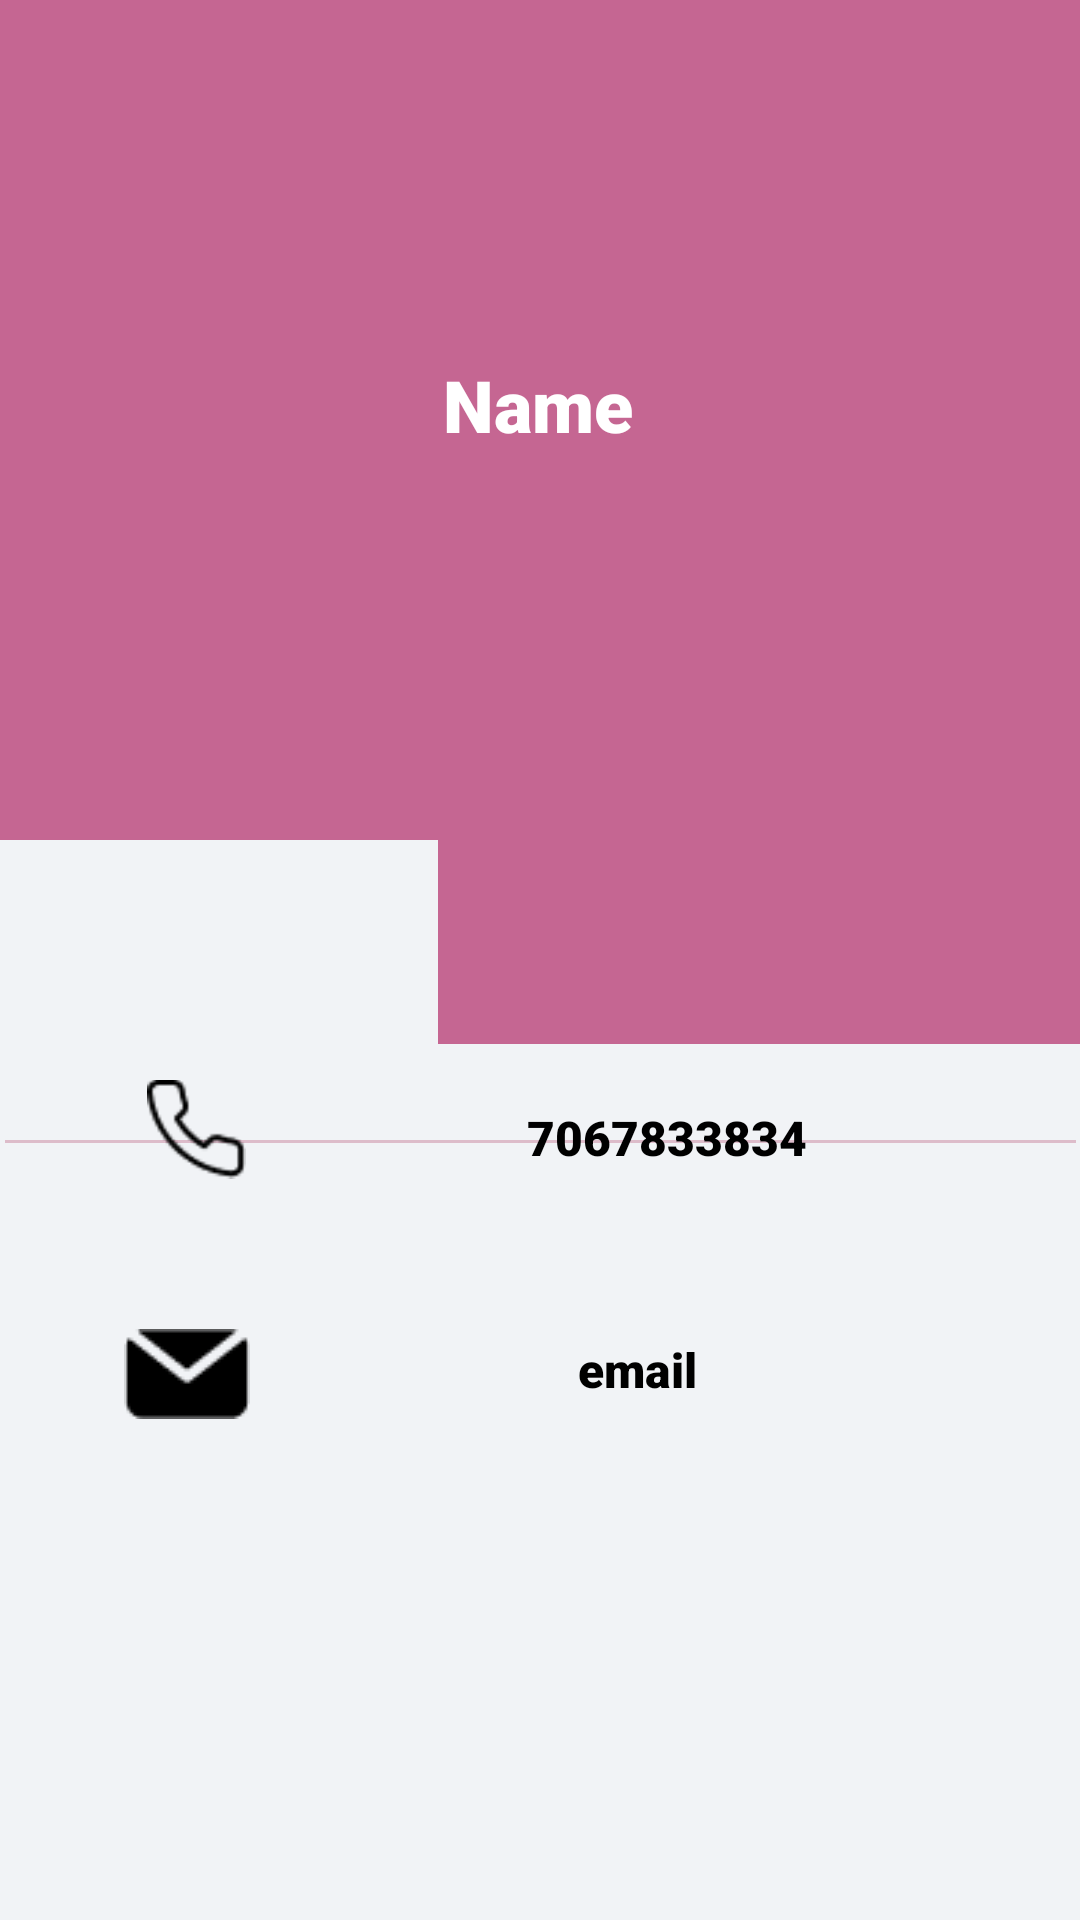

Where to tap for icons on this 1080px x 1920px app screen, as (x,y):
phonevector: (196,1129)
